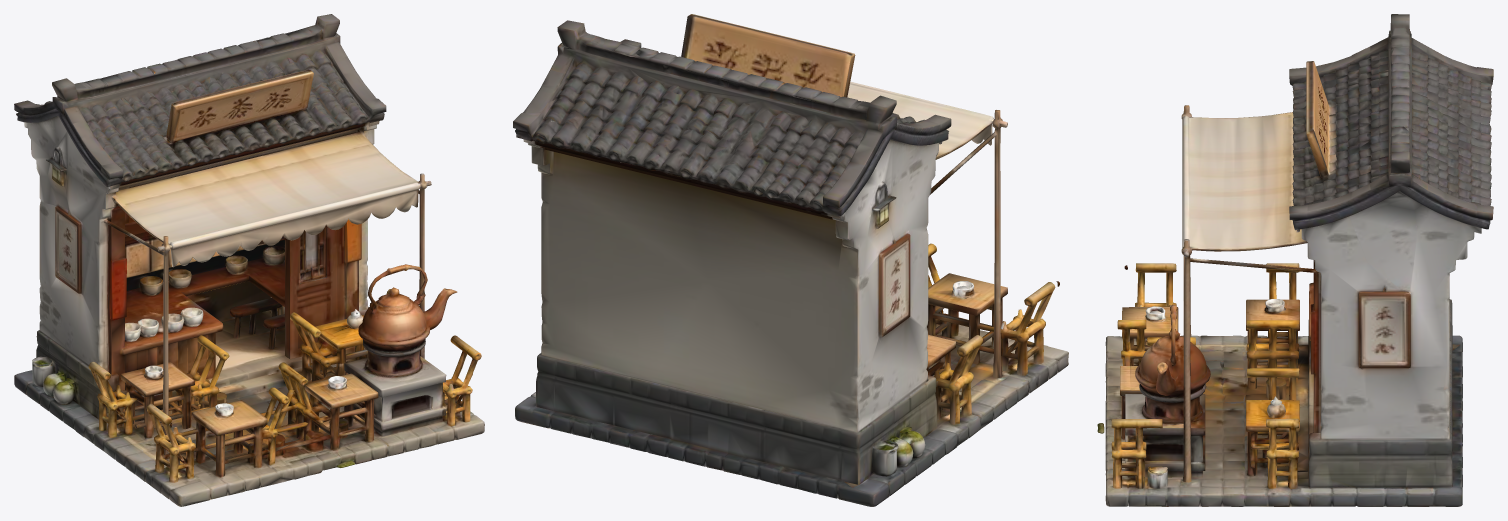
File: chaguan.glb
3 views of the same model, side by side, from view 1: azimuth 30°, elevation 25°; view 2: azimuth 150°, elevation 25°; view 3: azimuth 270°, elevation 25° (orthographic). The views are drawn at different scales.
Visible parts, largest first — view 1: node_0; view 2: node_0; view 3: node_0.
Boxes of the visible parts, <box> form: node_0: <box>14,14,484,506</box>; node_0: <box>513,14,1068,506</box>; node_0: <box>1097,14,1493,506</box>.
Bounding box in the file's own units: 0.6994 × 0.6945 × 0.7298.
Materials: 1 (1 with a texture image).
